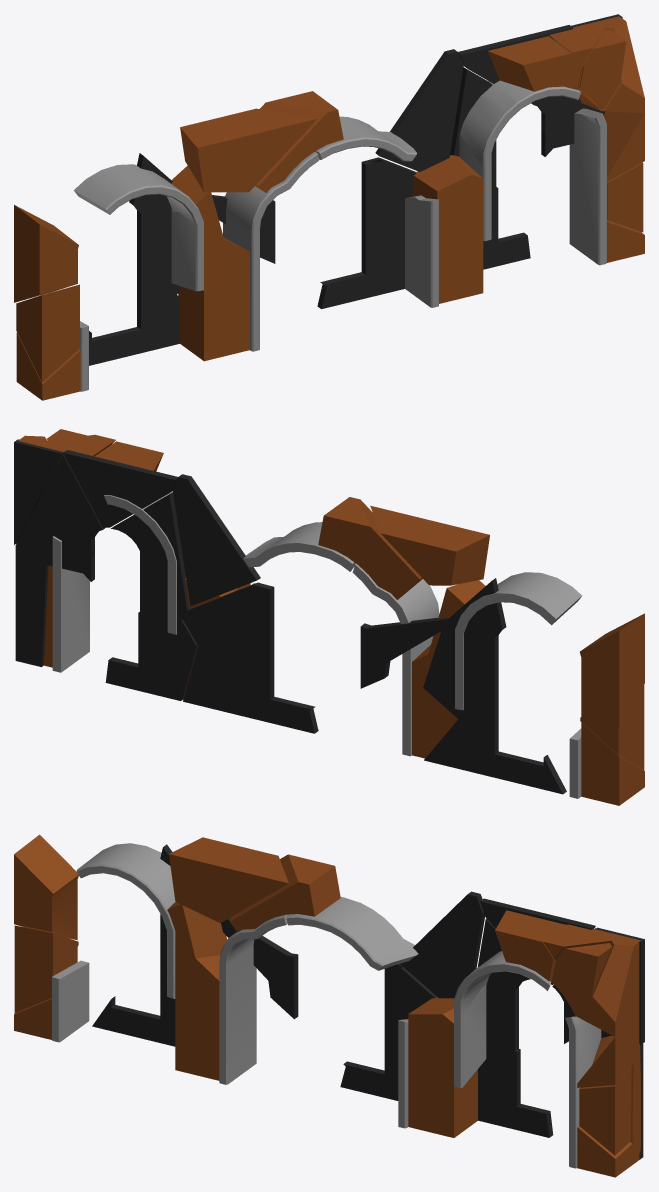
The model's file is corridoor_back_backwall_01 break.FBX.
The picture shows the model from 3 angles, top to bottom: view 1: azimuth 30°, elevation 25°; view 2: azimuth 150°, elevation 25°; view 3: azimuth 330°, elevation 25°; orthographic projection.
Visible parts, largest first — view 1: corridoor_back_backwall_01_Part_6, corridoor_back_backwall_01_Part_5, corridoor_back_backwall_01_Part_4, corridoorArch_1_01_Part_6, corridoor_back_backwall2_01_Part_4, corridoor_back_backwall_01_Part_7_Part_3, corridoor_back_backwall_01_Part_7_Part_2, corridoor_back_backwall2_01_Part_18, corridoorArch_2_01_Part_3, corridoor_back_backwall2_01_Part_8, corridoor_back_backwall2_01_Part_5, corridoor_back_backwall_01_Part_3_Part_6 (+23 smaller); view 2: corridoor_back_backwall2_01_Part_5, corridoor_back_backwall2_01_Part_18, corridoor_back_backwall2_01_Part_4, corridoor_back_backwall_01_Part_5, corridoor_back_backwall_01_Part_7_Part_3, corridoor_back_backwall2_01_Part_2, corridoor_back_backwall2_01_Part_6, corridoor_back_backwall2_01_Part_8, corridoor_back_backwall2_01_Part_12, corridoor_back_backwall_01_Part_2, corridoor_back_backwall2_01_Part_7, corridoor_back_backwall2_01_Part_17 (+19 smaller); view 3: corridoor_back_backwall_01_Part_6, corridoor_back_backwall_01_Part_5, corridoorArch_2_01_Part_3, corridoor_back_backwall_01_Part_4, corridoor_back_backwall_01_Part_7_Part_3, corridoor_back_backwall2_01_Part_4, corridoorArch_2_01_Part_5, corridoor_back_backwall_01_Part_3_Part_4, corridoor_back_backwall2_01_Part_12, corridoor_back_backwall_01_Part_2, corridoor_back_backwall_01_Part_7_Part_2, corridoorArch_1_002_Part_4 (+25 smaller).
Part boxes in pixels (x1=…): corridoor_back_backwall_01_Part_6: x1=413, y1=155, x2=644, y2=303; corridoor_back_backwall_01_Part_5: x1=180, y1=108, x2=317, y2=192; corridoor_back_backwall_01_Part_4: x1=178, y1=238, x2=249, y2=361; corridoorArch_1_01_Part_6: x1=569, y1=108, x2=606, y2=265; corridoor_back_backwall2_01_Part_4: x1=375, y1=49, x2=463, y2=171; corridoor_back_backwall_01_Part_7_Part_3: x1=14, y1=205, x2=78, y2=302; corridoor_back_backwall_01_Part_7_Part_2: x1=16, y1=284, x2=79, y2=382; corridoor_back_backwall2_01_Part_18: x1=323, y1=157, x2=415, y2=285; corridoorArch_2_01_Part_3: x1=223, y1=152, x2=319, y2=351; corridoor_back_backwall2_01_Part_8: x1=89, y1=287, x2=179, y2=365; corridoor_back_backwall2_01_Part_5: x1=129, y1=153, x2=179, y2=294; corridoor_back_backwall_01_Part_3_Part_6: x1=488, y1=36, x2=581, y2=91; corridoor_back_backwall2_01_Part_5: x1=423, y1=578, x2=506, y2=719; corridoor_back_backwall2_01_Part_18: x1=183, y1=582, x2=312, y2=710; corridoor_back_backwall2_01_Part_4: x1=172, y1=474, x2=260, y2=606; corridoor_back_backwall_01_Part_5: x1=370, y1=505, x2=489, y2=585; corridoor_back_backwall_01_Part_7_Part_3: x1=580, y1=613, x2=644, y2=728; corridoor_back_backwall2_01_Part_2: x1=16, y1=454, x2=104, y2=573; corridoor_back_backwall2_01_Part_6: x1=183, y1=646, x2=318, y2=733; corridoor_back_backwall2_01_Part_8: x1=424, y1=712, x2=566, y2=794; corridoor_back_backwall2_01_Part_12: x1=105, y1=612, x2=197, y2=700; corridoor_back_backwall_01_Part_2: x1=318, y1=497, x2=422, y2=599; corridoor_back_backwall2_01_Part_7: x1=83, y1=492, x2=189, y2=619; corridoor_back_backwall2_01_Part_17: x1=63, y1=450, x2=177, y2=528; corridoor_back_backwall_01_Part_6: x1=408, y1=997, x2=640, y2=1177; corridoor_back_backwall_01_Part_5: x1=169, y1=837, x2=288, y2=923; corridoorArch_2_01_Part_3: x1=219, y1=914, x2=287, y2=1084; corridoor_back_backwall_01_Part_4: x1=175, y1=955, x2=220, y2=1080; corridoor_back_backwall_01_Part_7_Part_3: x1=14, y1=834, x2=78, y2=940; corridoor_back_backwall2_01_Part_4: x1=400, y1=891, x2=485, y2=998; corridoorArch_2_01_Part_5: x1=286, y1=897, x2=418, y2=970; corridoor_back_backwall_01_Part_3_Part_4: x1=574, y1=935, x2=640, y2=1036; corridoor_back_backwall2_01_Part_12: x1=478, y1=1042, x2=553, y2=1137; corridoor_back_backwall_01_Part_2: x1=230, y1=854, x2=340, y2=932; corridoor_back_backwall_01_Part_7_Part_2: x1=14, y1=925, x2=78, y2=1012; corridoorArch_1_002_Part_4: x1=76, y1=843, x2=175, y2=915.
Size of the model in its own units: 24.16 by 8.54 by 2.16.
